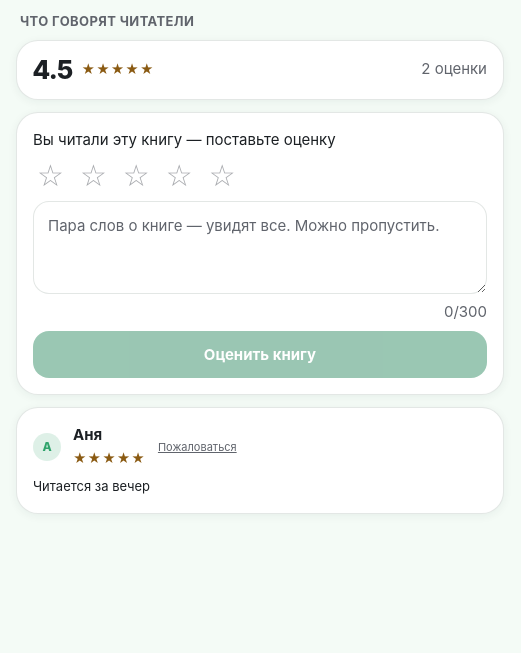
Scenario: оценки и аннотации в карточке книги › оценка с текстом уходит на сервер и экран показывает благодарность
Expected: the button "Оценить книгу" is shown, [33,331,487,378]
Click the button named "Оценка 5 из 5": click(222, 176) [205,159,240,193]
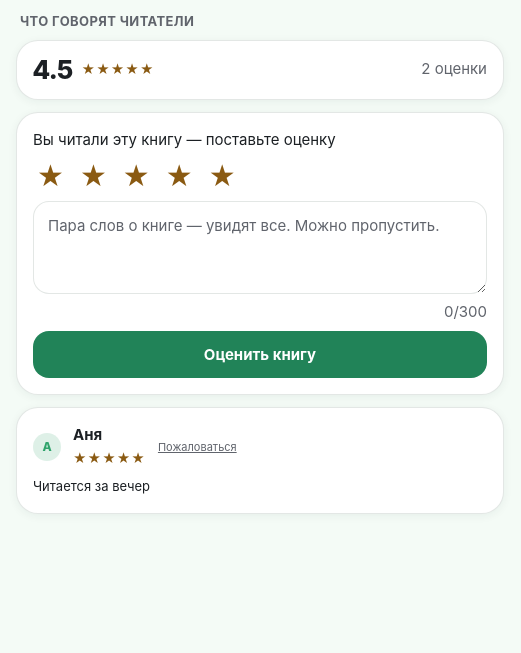
In the text box with placeholder "Пара слов о книге — увидят все. Можно пропустить.": (260, 248) [33,201,487,294], type "Отличная книга"
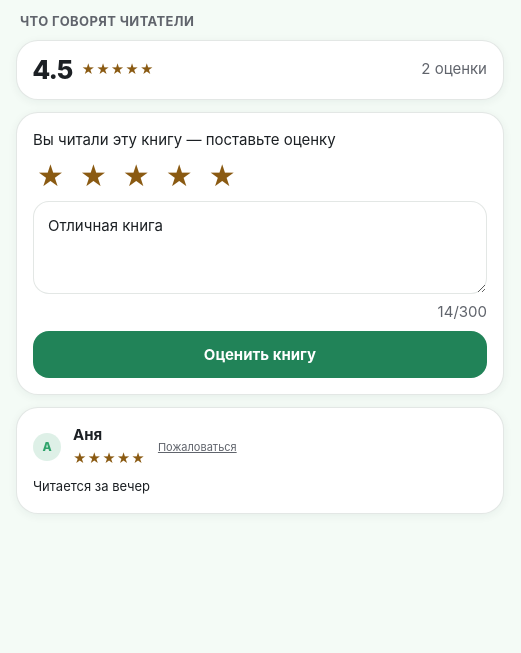
Click the button "Оценить книгу": click(260, 355) [33,331,487,378]
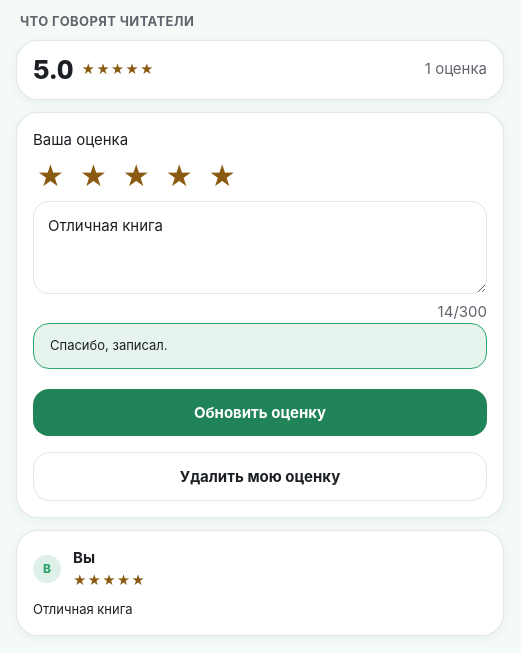
Expected: the text "Спасибо, записал." is shown, [33,323,487,369]
Expected: the button "Обновить оценку" is shown, [33,389,487,436]
Expected: the button "Удалить мою оценку" is shown, [33,452,487,501]
